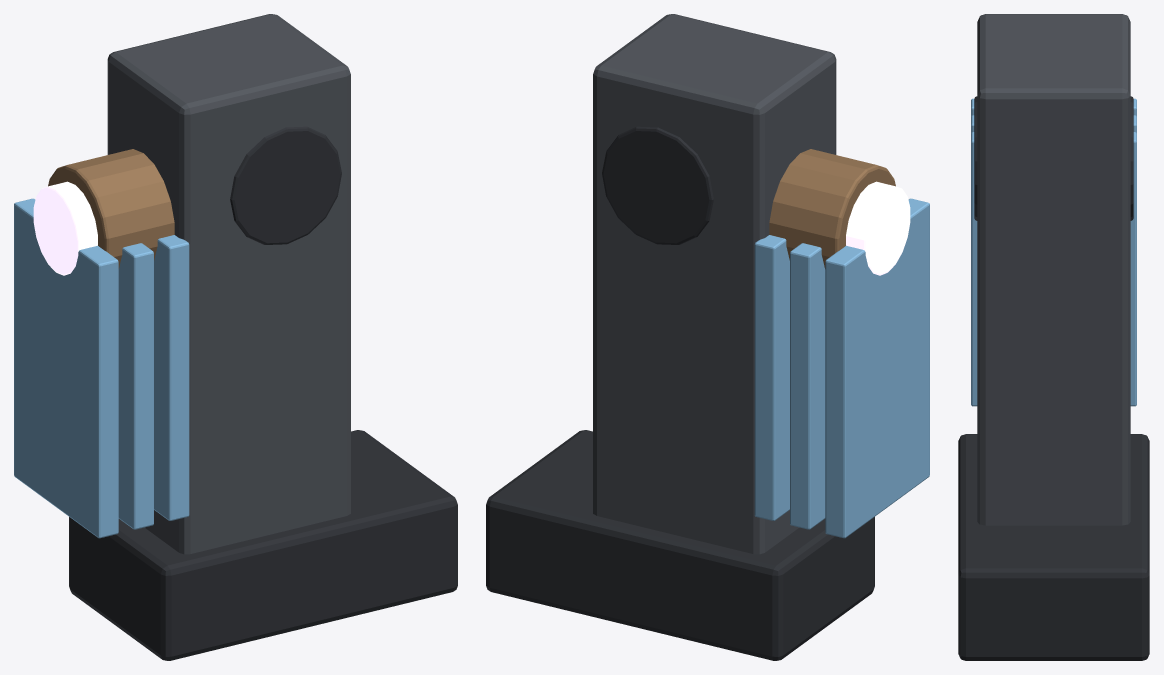
The model's file is module_thruster_rapid.fbx.
3 views of the same model, side by side, from view 1: azimuth 30°, elevation 25°; view 2: azimuth 150°, elevation 25°; view 3: azimuth 270°, elevation 25° (orthographic). The views are drawn at different scales.
Visible parts, largest first — view 1: SM_Module_ThrusterRapid; view 2: SM_Module_ThrusterRapid; view 3: SM_Module_ThrusterRapid.
Part boxes in pixels (<box>): SM_Module_ThrusterRapid: <box>14,14,457,660</box>; SM_Module_ThrusterRapid: <box>486,14,929,660</box>; SM_Module_ThrusterRapid: <box>958,14,1149,660</box>.
Size of what is drawn, in the model's own units: 62.5 by 91 by 30.
